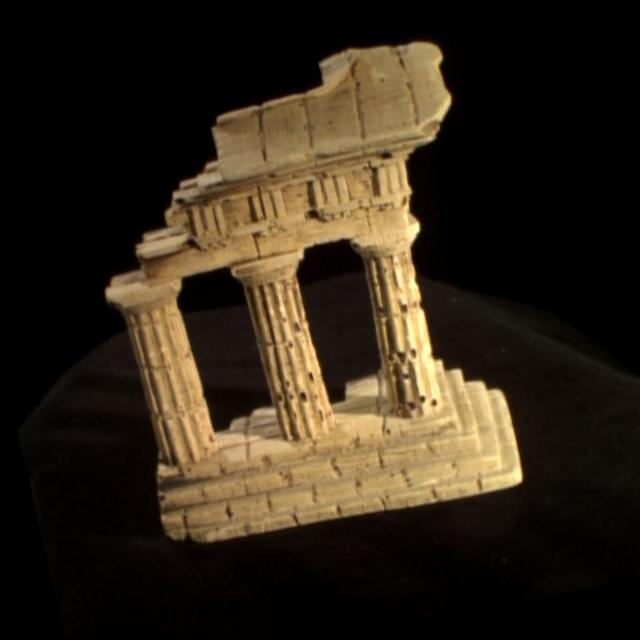Instance-Segmentation: (107, 40, 521, 540)
